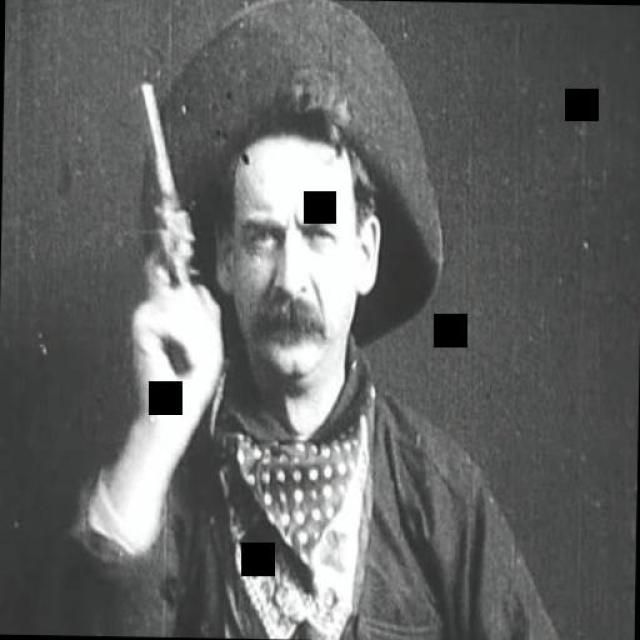gun: (122, 82, 206, 380)
